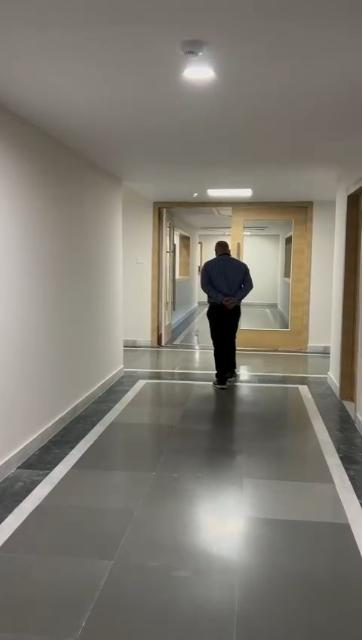floor: (0, 323, 356, 640)
moving-obj: (181, 232, 275, 400)
